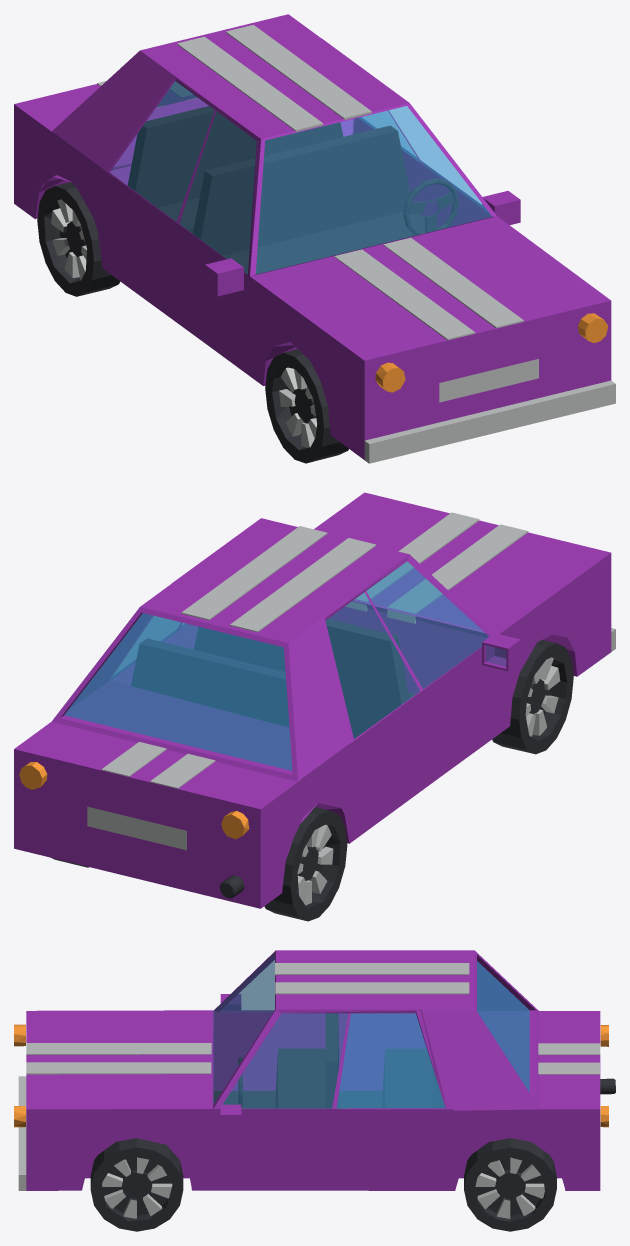
The model's file is voiture4.gltf.
3 renders of one model, top to bottom at view 1: azimuth 30°, elevation 25°; view 2: azimuth 150°, elevation 25°; view 3: azimuth 270°, elevation 25°, orthographic. The views are drawn at different scales.
Visible parts, largest first — view 1: carrosserie, parebrise, siege_avant, siege_arriere, fenetre_doite_avant, fenetre_droite_arrière, bas_de_caisse, roues_avant_droite, roue_arriere_droite, bande_toit_gauche, bande_toit_droite, bande_avant_gauche (+10 smaller); view 2: carrosserie, fenetre_arriere, bloc_arriere, siege_avant, siege_arriere, fenetre_doite_avant, fenetre_droite_arrière, roue_arriere_droite, roues_avant_droite, bloc_avant, bande_toit_droite, bande_toit_gauche (+10 smaller); view 3: carrosserie, fenetre _gauche _avant, fenetre _gauche _arrière, roues_avant_gauche, roue_arriere_gauche, parebrise, siege_avant, fenetre_arriere, siege_arriere, bande_toit_droite, bande_avant_droite, bande_toit_gauche (+8 smaller).
Boxes of the visible parts, x1,y1,x2,y2 form: carrosserie: (14, 14, 611, 459); parebrise: (256, 106, 491, 274); siege_avant: (193, 125, 437, 274); siege_arriere: (127, 106, 343, 233); fenetre_doite_avant: (179, 111, 256, 274); fenetre_droite_arrière: (110, 81, 214, 221); bas_de_caisse: (364, 380, 615, 463); roues_avant_droite: (265, 349, 348, 463); roue_arriere_droite: (37, 182, 120, 296); bande_toit_gauche: (177, 36, 323, 131); bande_toit_droite: (226, 25, 371, 119); bande_avant_gauche: (334, 249, 475, 340); carrosserie: (14, 492, 611, 908); fenetre_arriere: (64, 613, 292, 770); bloc_arriere: (65, 681, 292, 770); siege_avant: (194, 619, 415, 738); siege_arriere: (131, 638, 288, 727); fenetre_doite_avant: (366, 562, 488, 688); fenetre_droite_arrière: (326, 592, 419, 738); roue_arriere_droite: (264, 807, 347, 921); roues_avant_droite: (492, 640, 573, 754); bloc_avant: (328, 601, 488, 693); bande_toit_droite: (181, 526, 327, 620); bande_toit_gauche: (230, 538, 376, 632); carrosserie: (26, 950, 600, 1190); fenetre _gauche _avant: (223, 1013, 347, 1108); fenetre _gauche _arrière: (337, 1013, 445, 1108); roues_avant_gauche: (90, 1138, 183, 1231); roue_arriere_gauche: (464, 1138, 556, 1231); parebrise: (213, 953, 274, 1104); siege_avant: (275, 1013, 338, 1108); fenetre_arriere: (477, 961, 529, 1092); siege_arriere: (383, 1049, 444, 1107); bande_toit_droite: (275, 982, 469, 994); bande_avant_droite: (26, 1062, 211, 1074); bande_toit_gauche: (275, 963, 469, 975).
Bounding box in the file's own units: 3.91 × 3.04 × 8.22.
9 materials, 9 textured.
